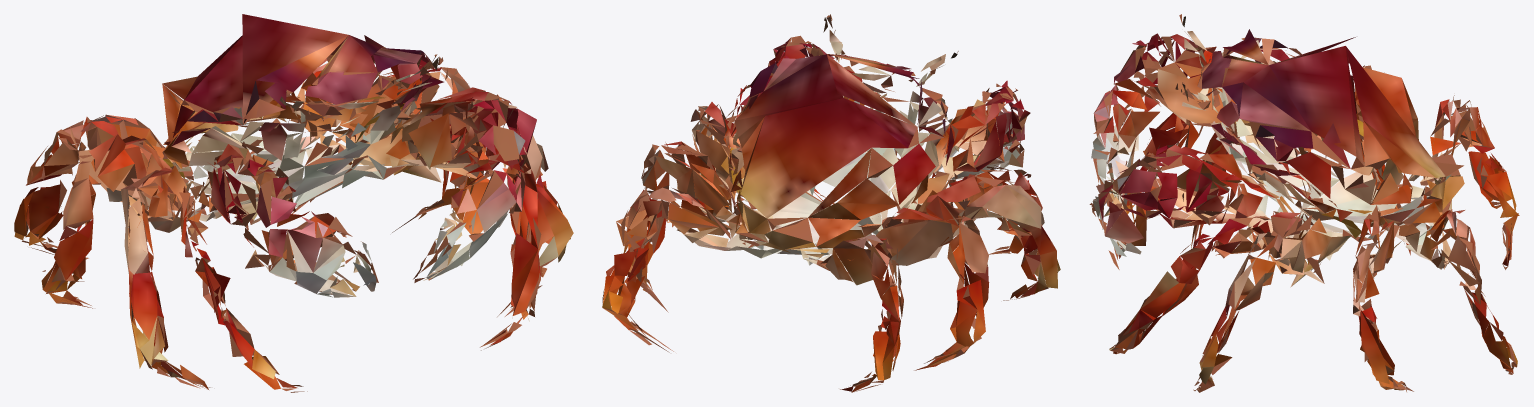
File: crab.glb
The picture shows the model from 3 angles, left to right: view 1: azimuth 30°, elevation 25°; view 2: azimuth 150°, elevation 25°; view 3: azimuth 270°, elevation 25°; orthographic projection. The views are drawn at different scales.
Parts seen in each view (by area): view 1: crab; view 2: crab; view 3: crab.
Boxes of the visible parts, x1,y1,x2,y2 form: crab: (14, 14, 573, 392); crab: (602, 14, 1060, 392); crab: (1089, 14, 1519, 392).
Bounding box in the file's own units: 0.0993 × 0.0634 × 0.0884.
1 material, 1 textured.
